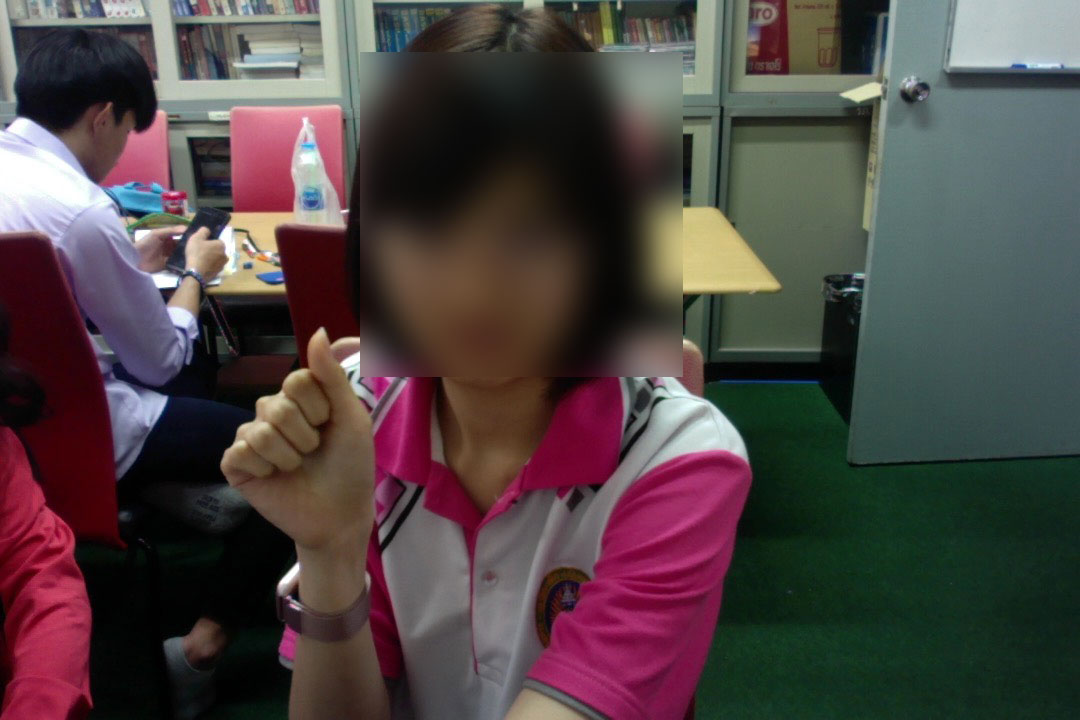or: (214, 317, 380, 572)
